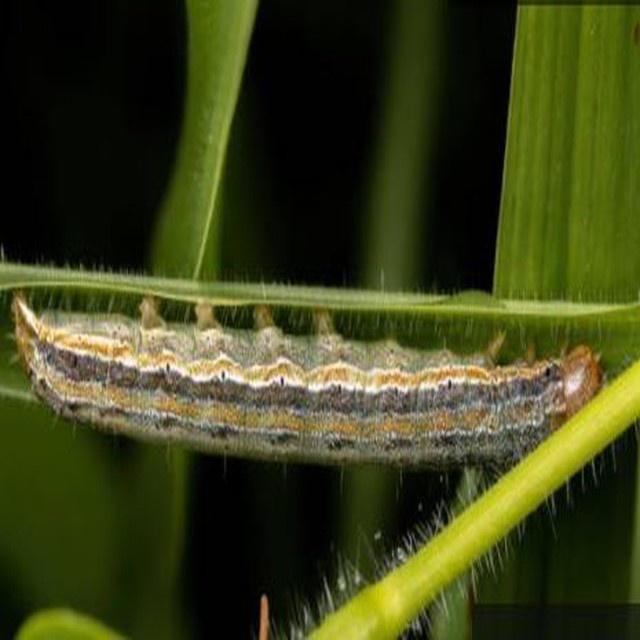Plaga: (11, 293, 604, 450)
